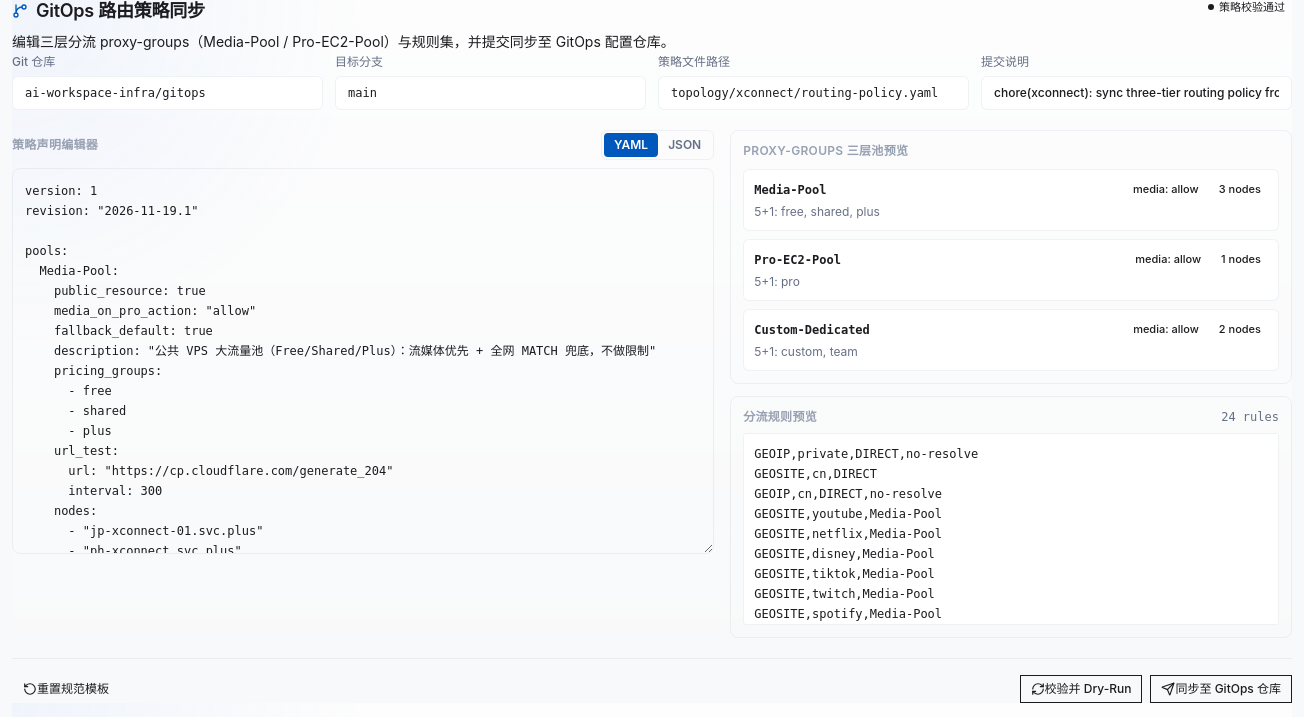
Scenario: GatewayRoutingPolicyCard › submits policy sync to the configured GitOps target
Click the button "同步至 GitOps 仓库": x=1221, y=689 [1150, 675, 1292, 703]
(page scrolled)
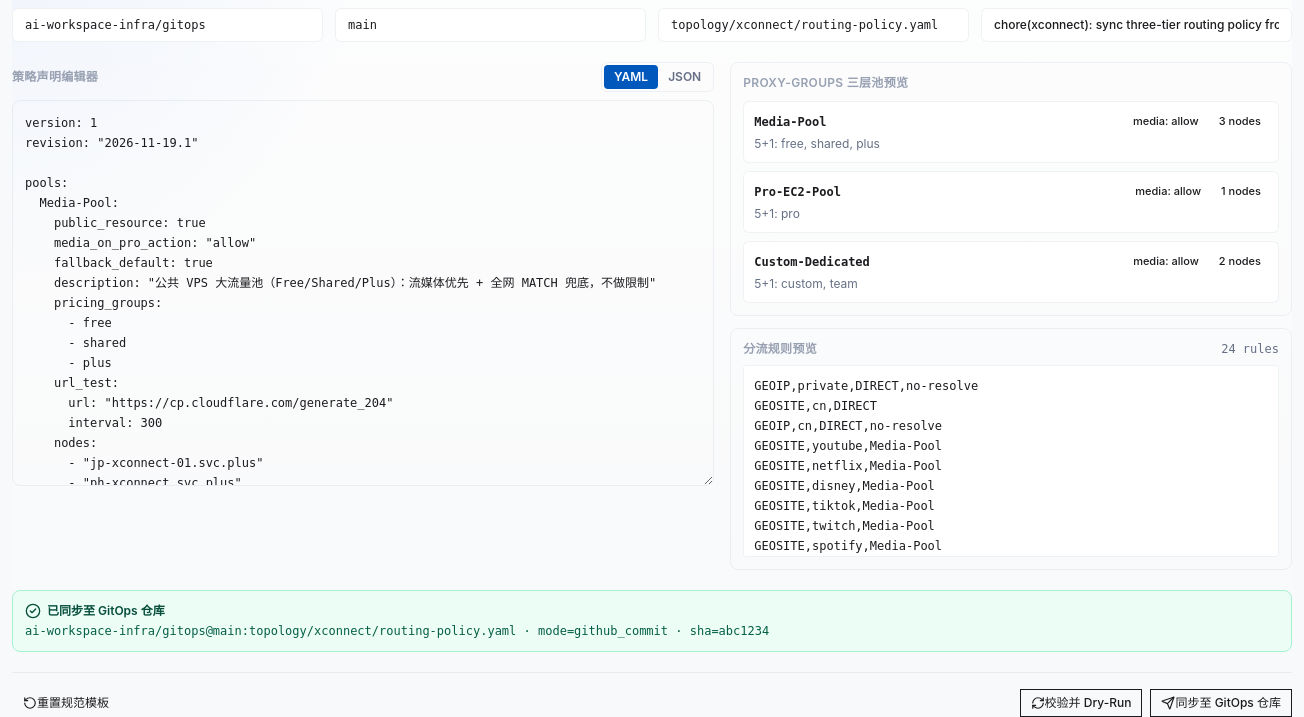
Now the message shows "已同步至 GitOps 仓库", box [47, 603, 165, 618]
Now the message shows "sha=abc1234", box [668, 624, 769, 638]
